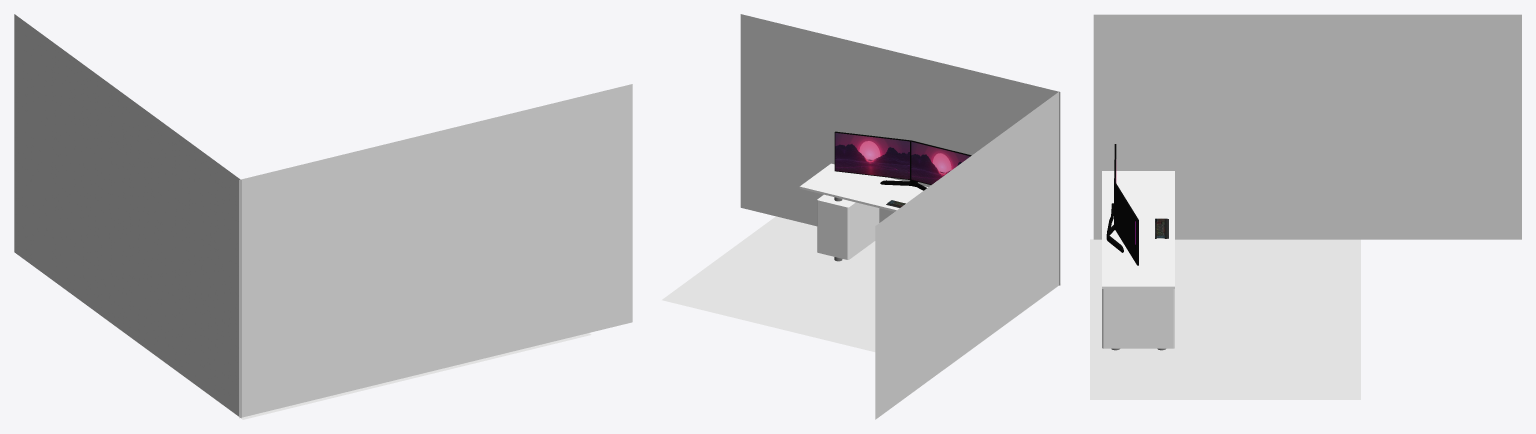
File: pc setup.glb
3 views of the same model, side by side, from view 1: azimuth 30°, elevation 25°; view 2: azimuth 150°, elevation 25°; view 3: azimuth 270°, elevation 25° (orthographic). The views are drawn at different scales.
Parts seen in each view (by area): view 1: Plane.001, Plane.005, Plane; view 2: Plane.005, Plane.001, Plane, Cube.002, Cube.013, Cube, Cube.001; view 3: Plane.005, Plane, Cube, Cube.002, Cube.012.
Part boxes in pixels (<box>): Plane.001: <box>239,84,632,418</box>; Plane.005: <box>14,14,241,417</box>; Plane: <box>100,315,591,419</box>; Plane.005: <box>875,92,1058,419</box>; Plane.001: <box>740,14,1060,285</box>; Plane: <box>662,216,1060,368</box>; Cube.002: <box>817,194,879,259</box>; Cube.013: <box>835,133,909,179</box>; Cube: <box>799,163,927,211</box>; Cube.001: <box>911,141,970,184</box>; Plane.005: <box>1093,14,1521,239</box>; Plane: <box>1090,239,1360,399</box>; Cube: <box>1102,171,1174,288</box>; Cube.002: <box>1102,289,1174,348</box>; Cube.012: <box>1114,182,1138,265</box>.
Bounding box in the file's own units: 4.69 × 2.72 × 4.73.
14 materials, 2 textured.
